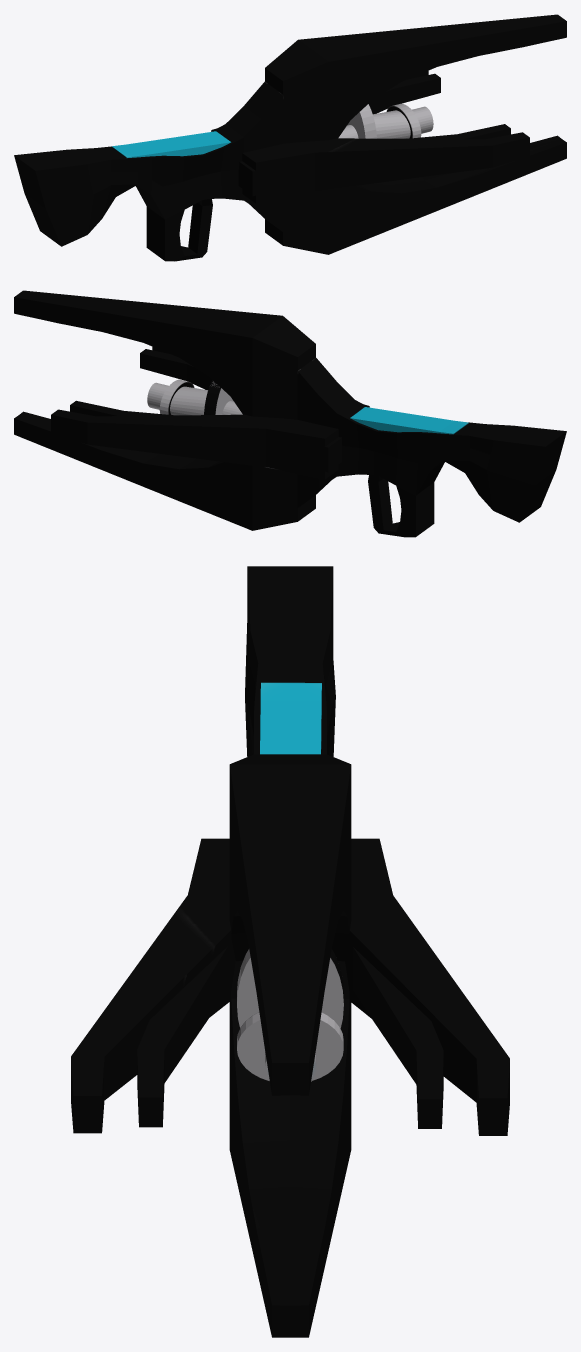
File: blackholegun.glb
The picture shows the model from 3 angles, top to bottom: view 1: azimuth 30°, elevation 25°; view 2: azimuth 150°, elevation 25°; view 3: azimuth 270°, elevation 25°; orthographic projection. The views are drawn at different scales.
Visible parts, largest first — view 1: Gun; view 2: Gun; view 3: Gun.
Boxes of the visible parts, bbox=[...] form: Gun: bbox=[14, 14, 566, 261]; Gun: bbox=[14, 290, 566, 537]; Gun: bbox=[71, 566, 509, 1337].
Size of the model in its own units: 20.46 by 7.02 by 7.24.
1 material, 1 textured.
